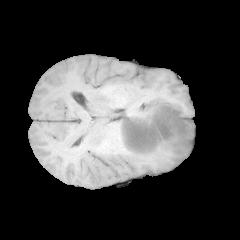glioma: (110, 100, 194, 163)
